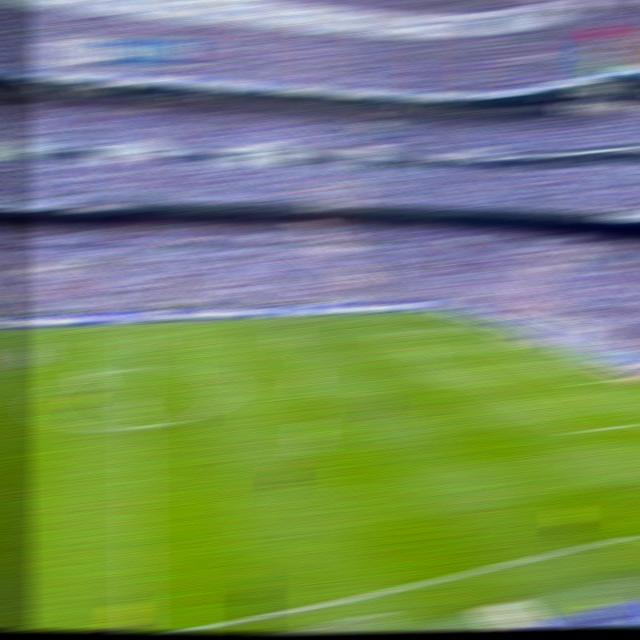halfcircle_bottom: (123, 416, 150, 437)
halfcircle_top: (124, 359, 148, 376)
midline_top_intersection: (125, 319, 147, 331)
top_arc_area_intersection: (415, 346, 437, 358)
